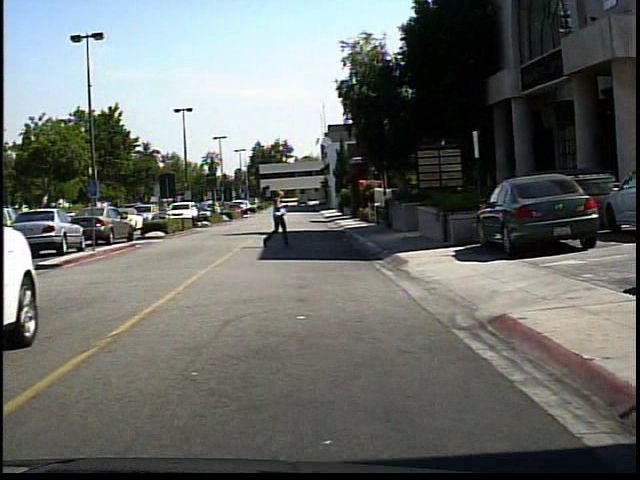person: (258, 186, 292, 250)
